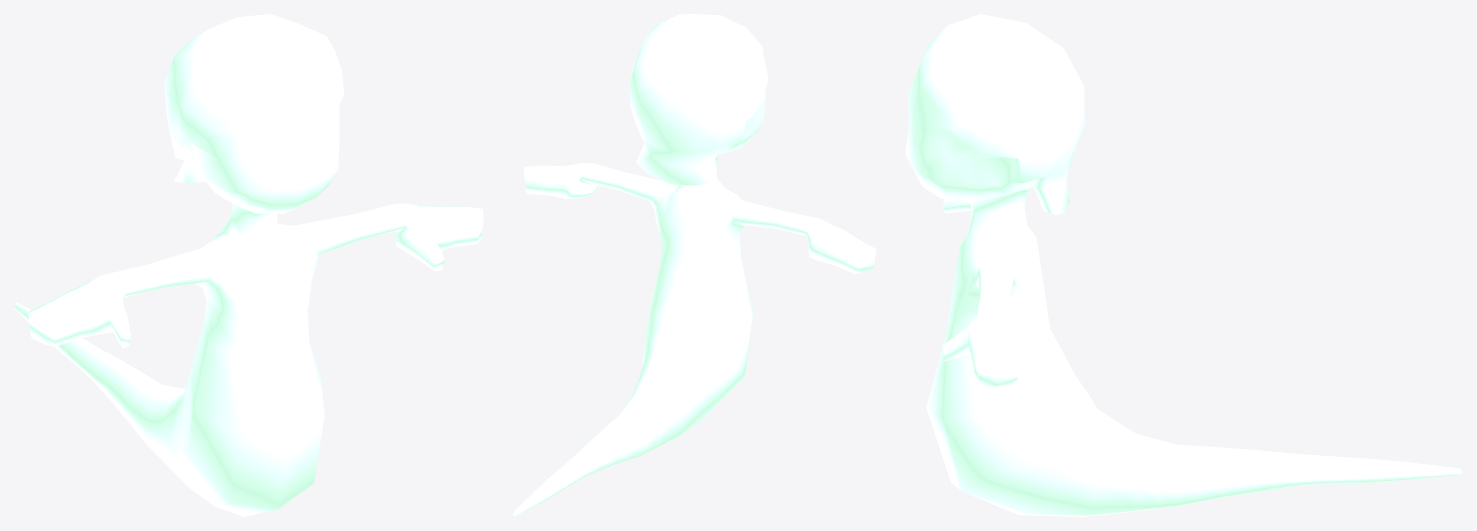
Rendered from player1_Tail_Tpose_weight.fbx.
3 renders of one model, left to right at view 1: azimuth 30°, elevation 25°; view 2: azimuth 150°, elevation 25°; view 3: azimuth 270°, elevation 25°, orthographic. The views are drawn at different scales.
Visible parts, largest first — view 1: player1_Tpose3; view 2: player1_Tpose3; view 3: player1_Tpose3.
Boxes of the visible parts, x1=… form: player1_Tpose3: x1=14, y1=14, x2=483, y2=516; player1_Tpose3: x1=512, y1=14, x2=876, y2=516; player1_Tpose3: x1=905, y1=14, x2=1462, y2=516.
Size of the model in its own units: 112 by 119 by 122.
